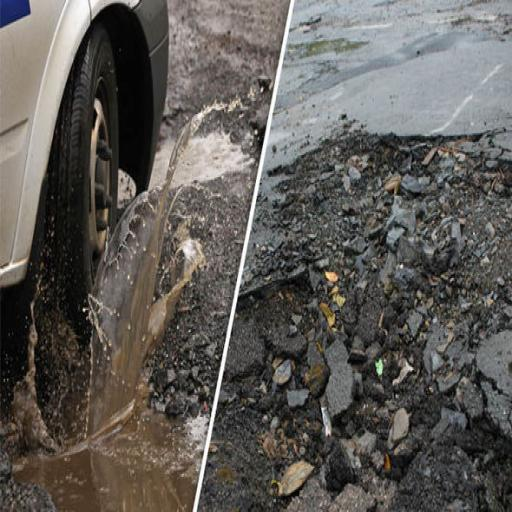pothole: (284, 197, 466, 447), (49, 281, 185, 439)
